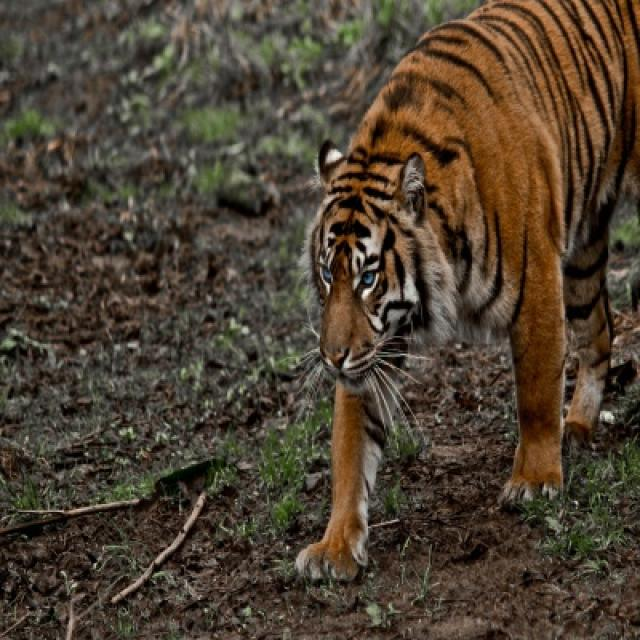Tiger: (293, 0, 638, 581)
